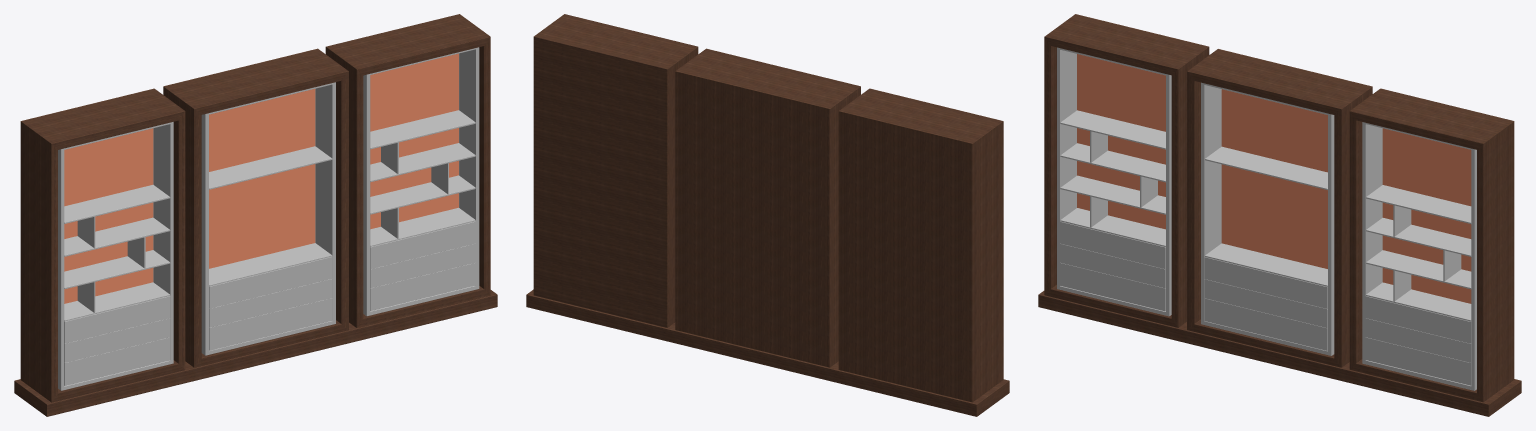
File: QD_3BR_LR_TV_Cabinet_UN.FBX
3 views of the same model, side by side, from view 1: azimuth 30°, elevation 25°; view 2: azimuth 150°, elevation 25°; view 3: azimuth 330°, elevation 25° (orthographic).
Visible parts, largest first — view 1: Cabinet_02, Cabinet_01, Cabinet_03, Cabinet_Base; view 2: Cabinet_02, Cabinet_01, Cabinet_03, Cabinet_Base; view 3: Cabinet_02, Cabinet_03, Cabinet_01, Cabinet_Base.
Part boxes in pixels (left/top/right/bottom): Cabinet_02: left=163, top=48, right=348, bottom=367; Cabinet_01: left=20, top=88, right=185, bottom=402; Cabinet_03: left=325, top=14, right=490, bottom=327; Cabinet_Base: left=14, top=290, right=497, bottom=416; Cabinet_02: left=675, top=48, right=860, bottom=367; Cabinet_01: left=838, top=88, right=1003, bottom=402; Cabinet_03: left=533, top=14, right=698, bottom=327; Cabinet_Base: left=526, top=289, right=1009, bottom=416; Cabinet_02: left=1187, top=49, right=1372, bottom=367; Cabinet_03: left=1349, top=88, right=1514, bottom=402; Cabinet_01: left=1044, top=14, right=1209, bottom=327; Cabinet_Base: left=1038, top=291, right=1521, bottom=416.
Bounding box in the file's own units: 5.04 × 2.9 × 0.635.
